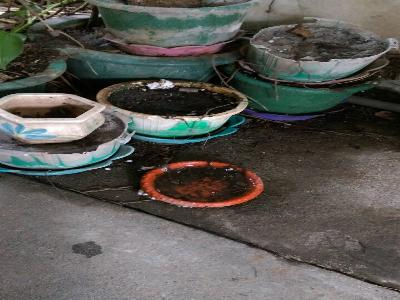bowl: (98, 78, 250, 138), (1, 92, 104, 144)
plate: (137, 159, 266, 209), (1, 144, 134, 175), (104, 30, 248, 56), (130, 116, 246, 146), (243, 102, 358, 122)
